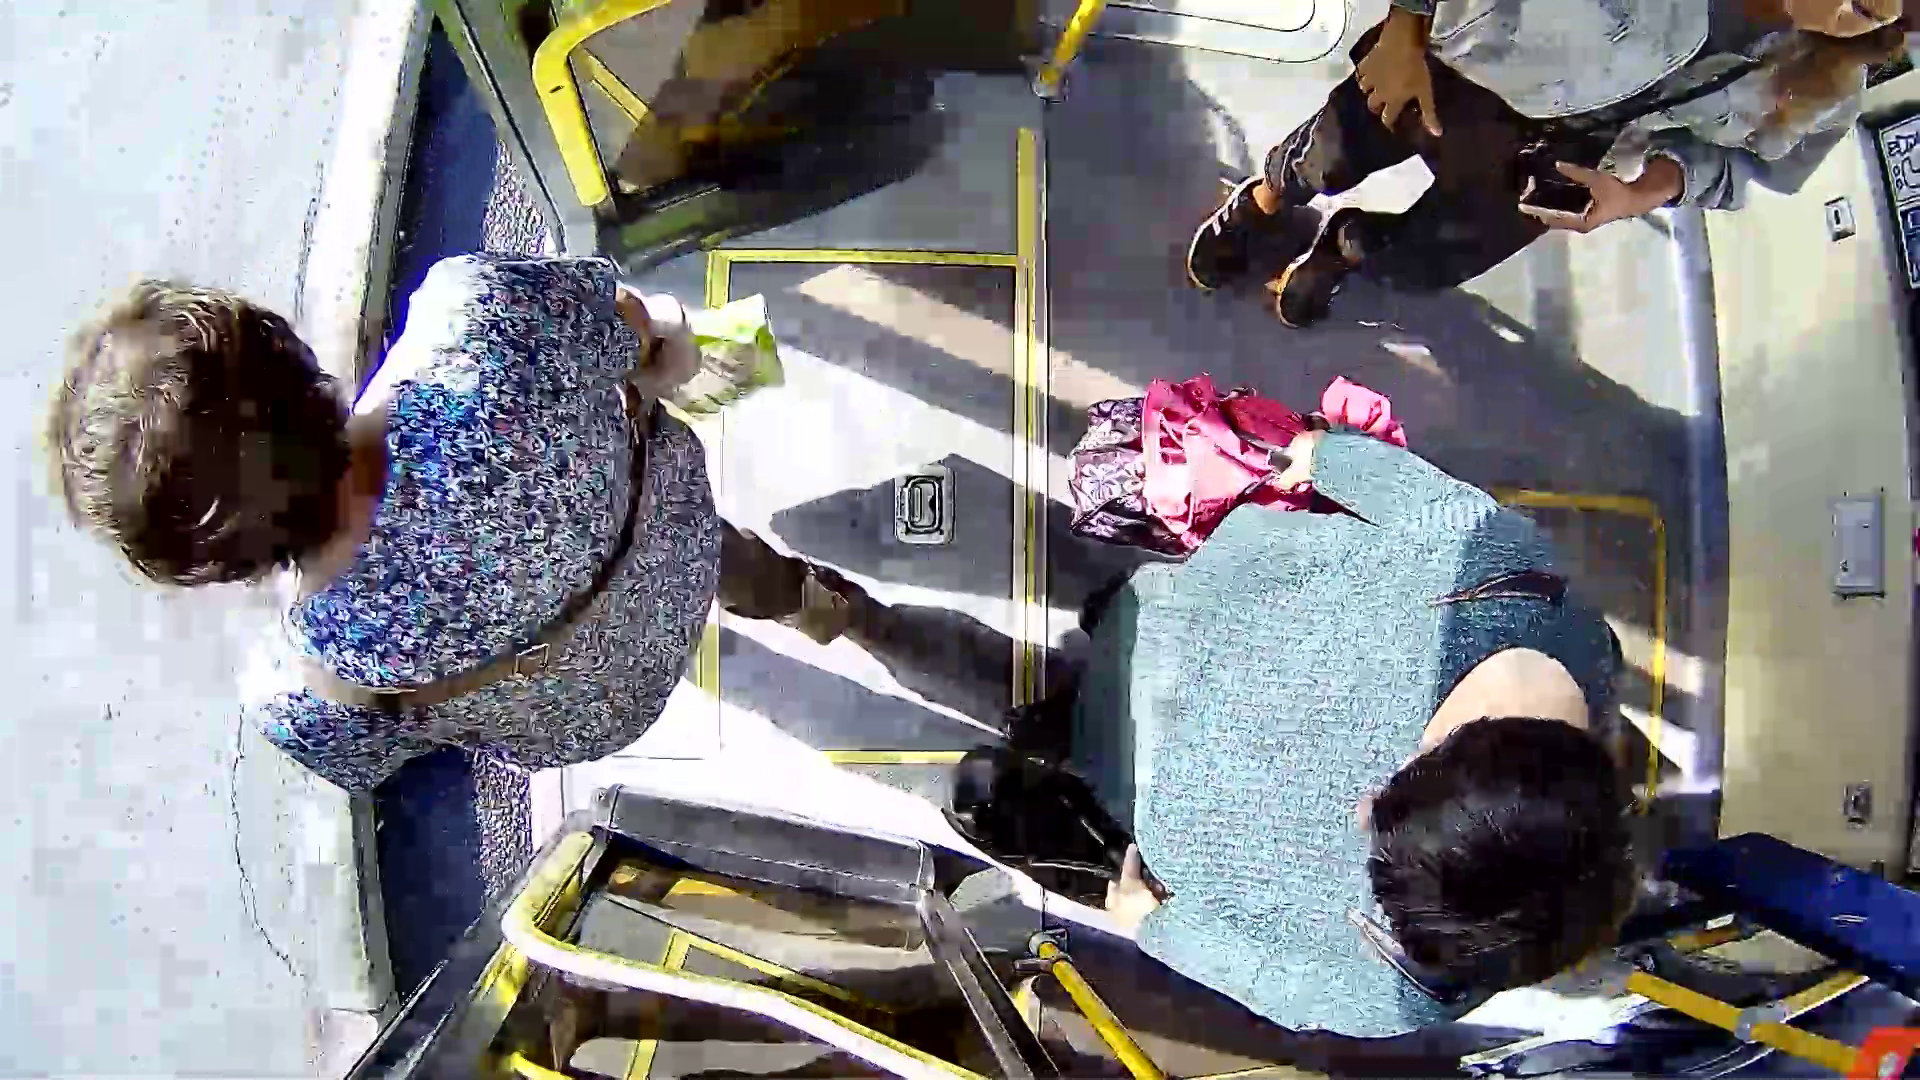person: (943, 338, 1704, 1042), (55, 245, 905, 838)
